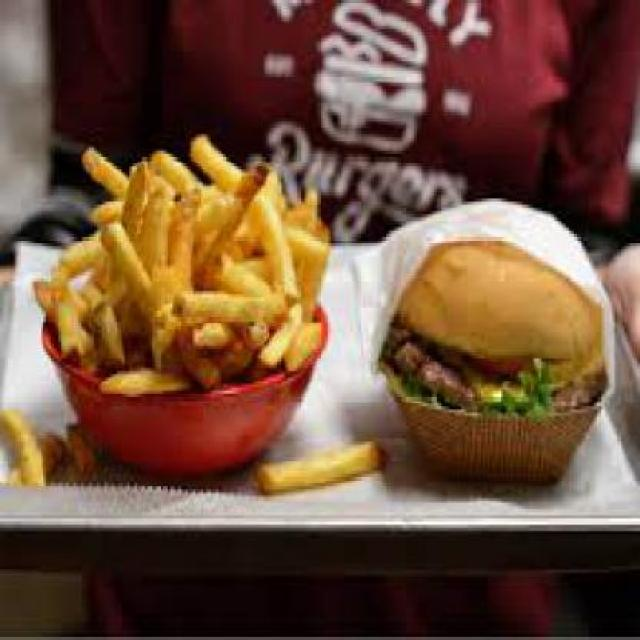hamburger: (376, 218, 624, 499)
